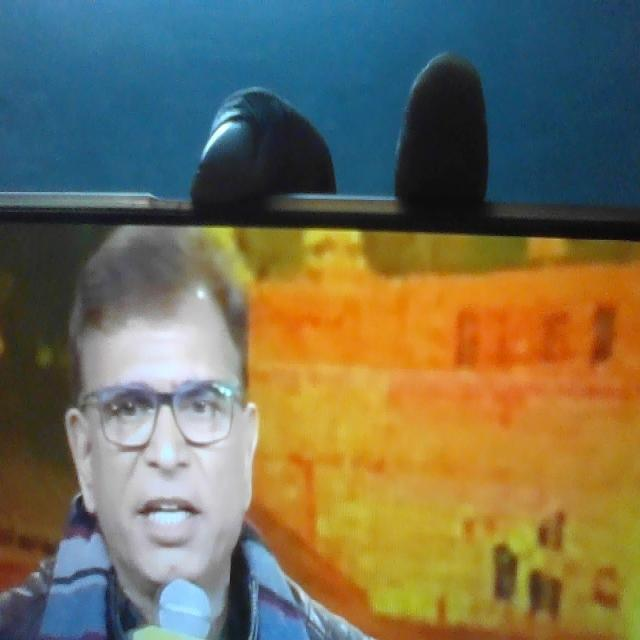fake: (63, 227, 261, 600)
